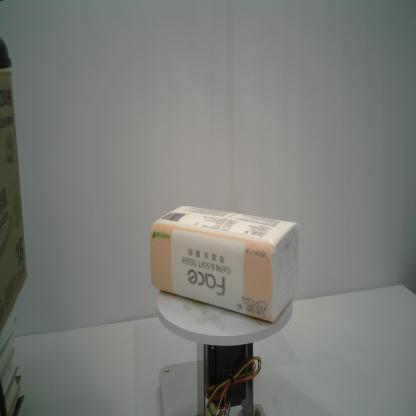Tissue: (146, 203, 300, 324)
